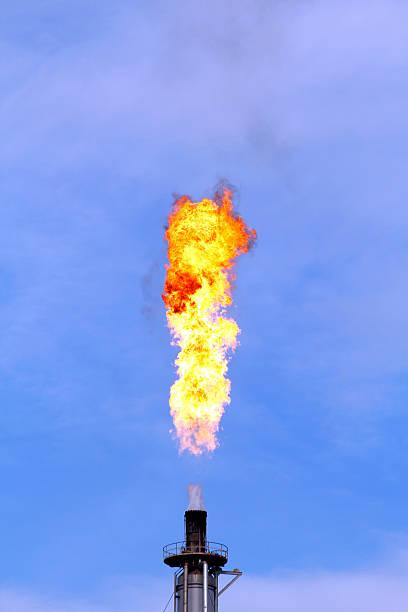Fire: (129, 155, 255, 450)
